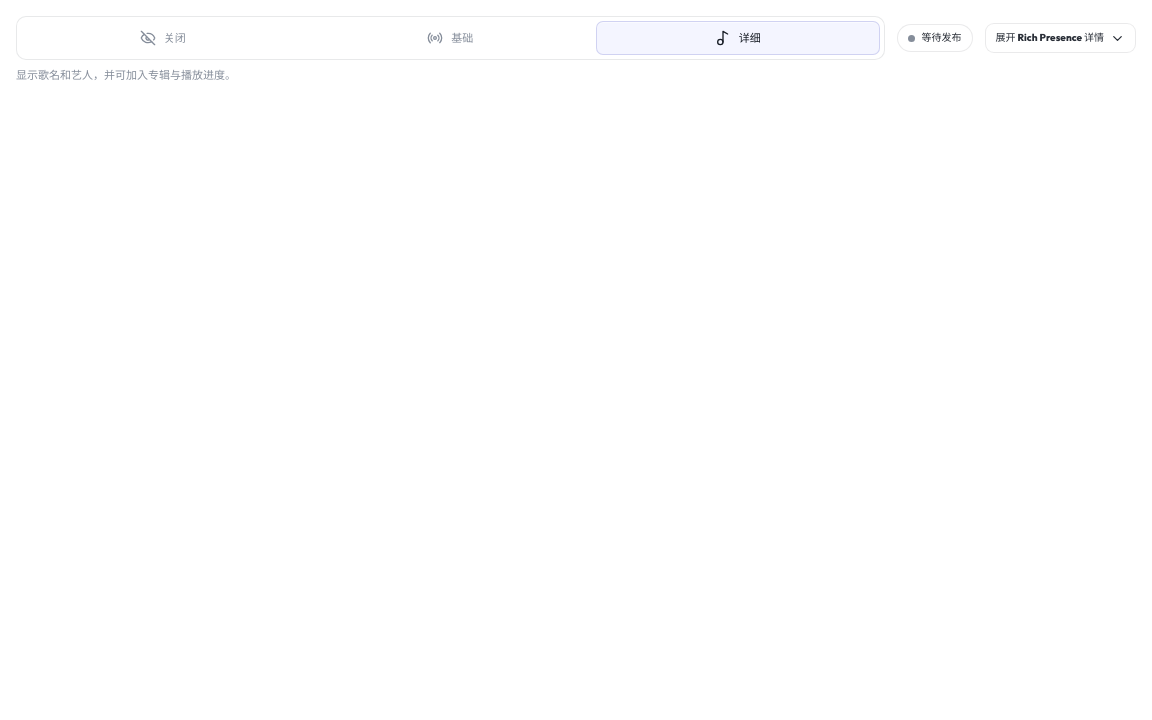
Scenario: SteamRichPresenceSettings › keeps the newest diagnostics result when an older request finishes later
This screenshot has width=1152, height=720.
Click the button "展开 Rich Presence 详情". click: (1060,38)
box: x1=985 y1=23 x2=1136 y2=53
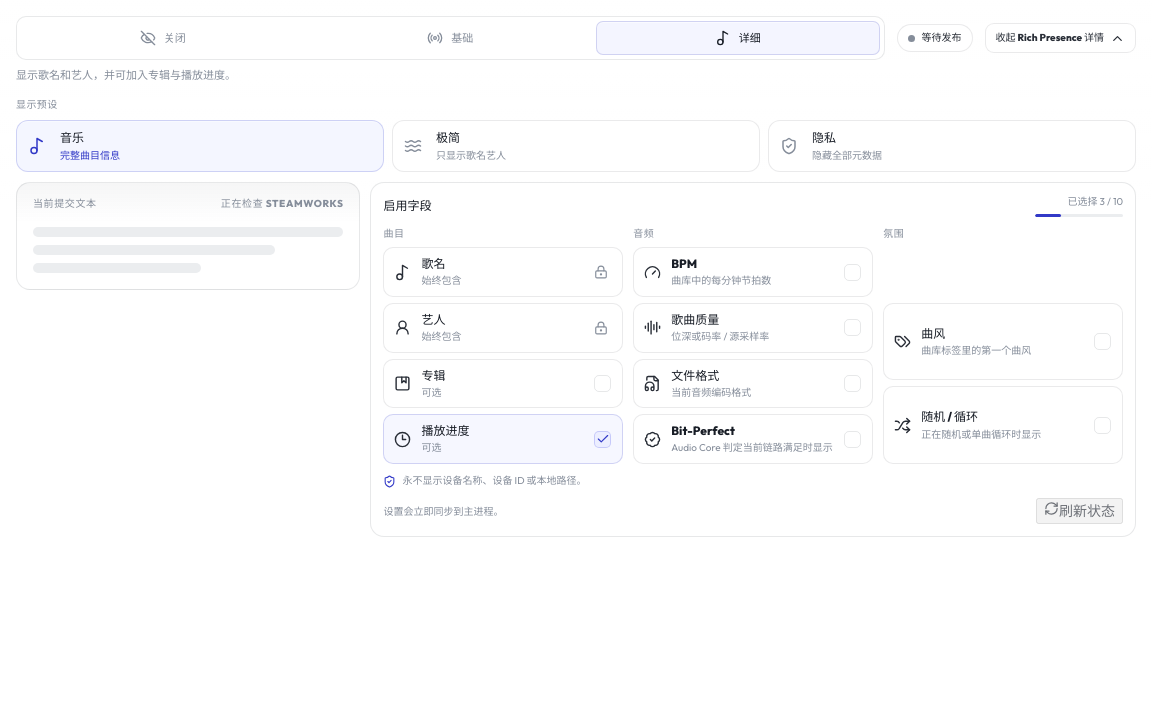
Check: the text "正在检查 Steamworks" is shown, box x1=221 y1=197 x2=344 y2=211
Click the button "专辑 可选". click: (503,383)
box: x1=384 y1=359 x2=623 y2=408
Wait 500 ms
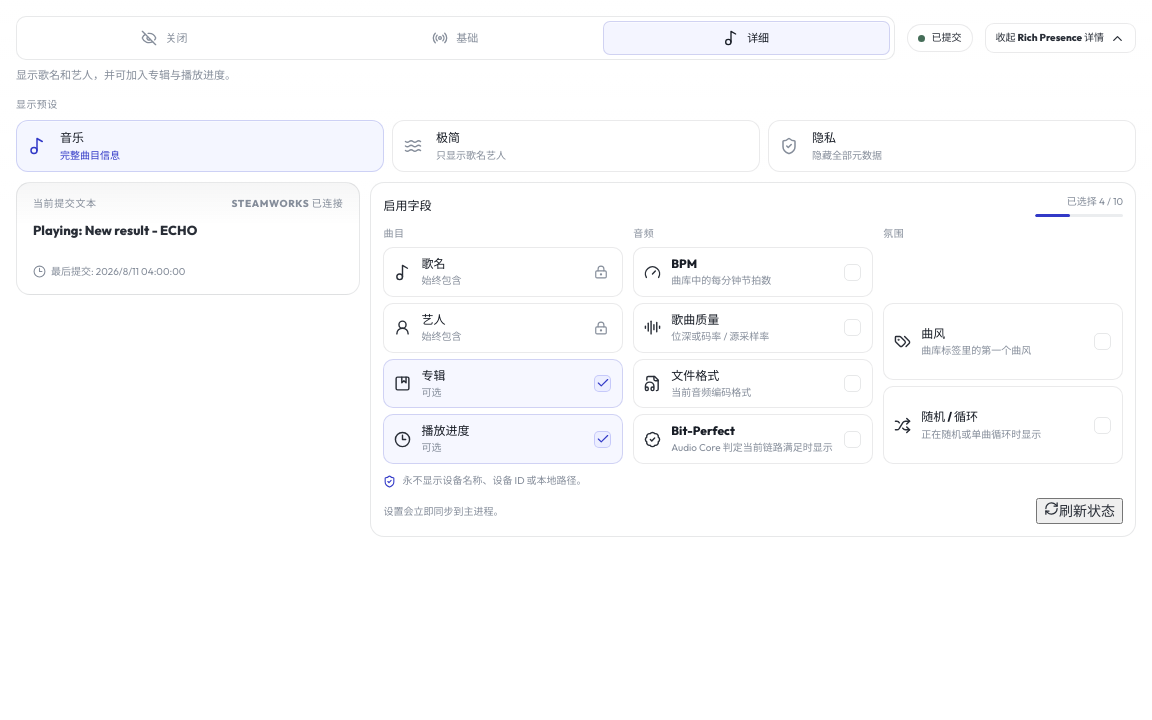
Check: the text "Playing: New result - ECHO" is shown, box x1=33 y1=222 x2=197 y2=238
